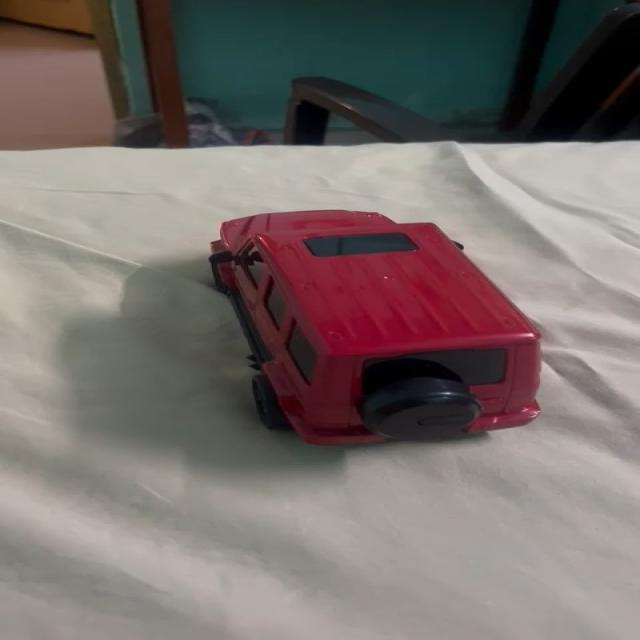light_vehicle: (204, 205, 546, 438)
